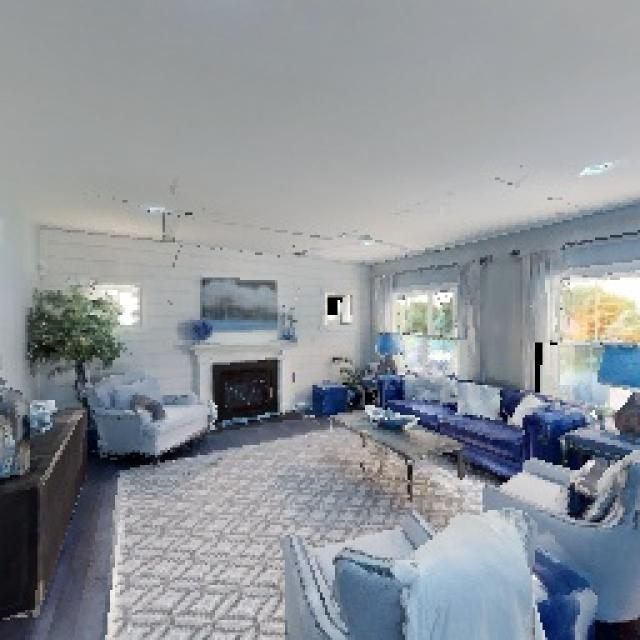sofa: (268, 441, 558, 640), (461, 422, 640, 640), (358, 356, 599, 482), (79, 358, 224, 462)
table: (322, 394, 479, 518)
